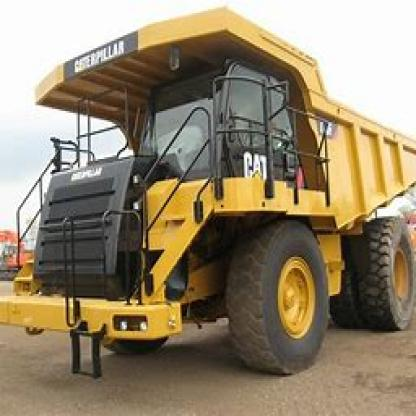dump_truck: (10, 5, 414, 368)
